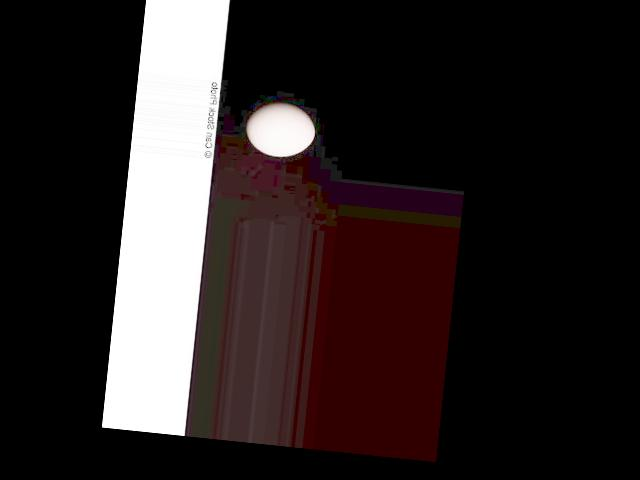egg: (242, 100, 317, 159)
